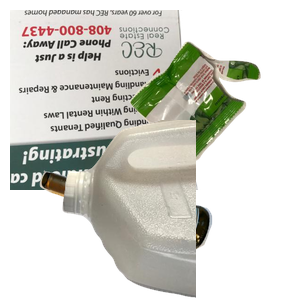glass: (37, 168, 242, 300)
paper: (10, 10, 201, 190)
plastic: (60, 120, 300, 300)
trash: (127, 39, 300, 193)
